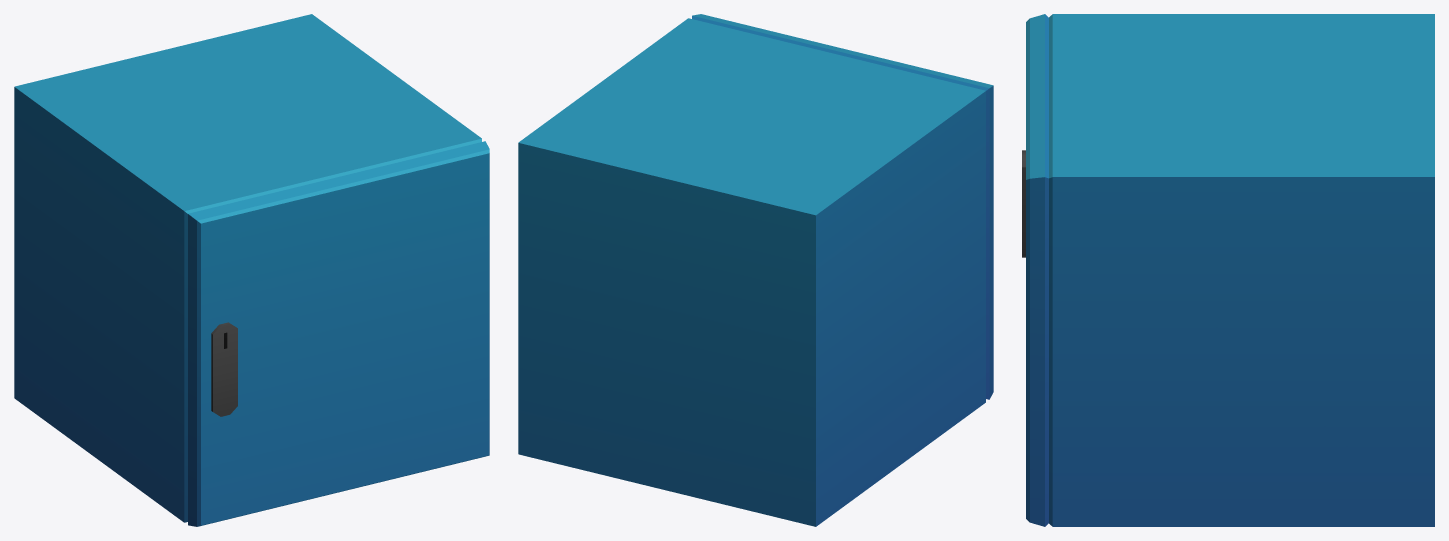
Rendered from CR_LockerB_003.FBX.
The picture shows the model from 3 angles, left to right: view 1: azimuth 30°, elevation 25°; view 2: azimuth 150°, elevation 25°; view 3: azimuth 270°, elevation 25°; orthographic projection. The views are drawn at different scales.
Parts seen in each view (by area): view 1: CR_LockerB_003, CR_LockerB_003_door; view 2: CR_LockerB_003, CR_LockerB_003_door; view 3: CR_LockerB_003, CR_LockerB_003_door.
Part boxes in pixels (x1=…): CR_LockerB_003: x1=14, y1=14, x2=481, y2=522; CR_LockerB_003_door: x1=188, y1=141, x2=489, y2=526; CR_LockerB_003: x1=518, y1=18, x2=985, y2=526; CR_LockerB_003_door: x1=692, y1=14, x2=993, y2=399; CR_LockerB_003: x1=1049, y1=14, x2=1434, y2=526; CR_LockerB_003_door: x1=1022, y1=14, x2=1048, y2=526.
Bounding box in the file's own units: 40 × 40 × 42.78.
